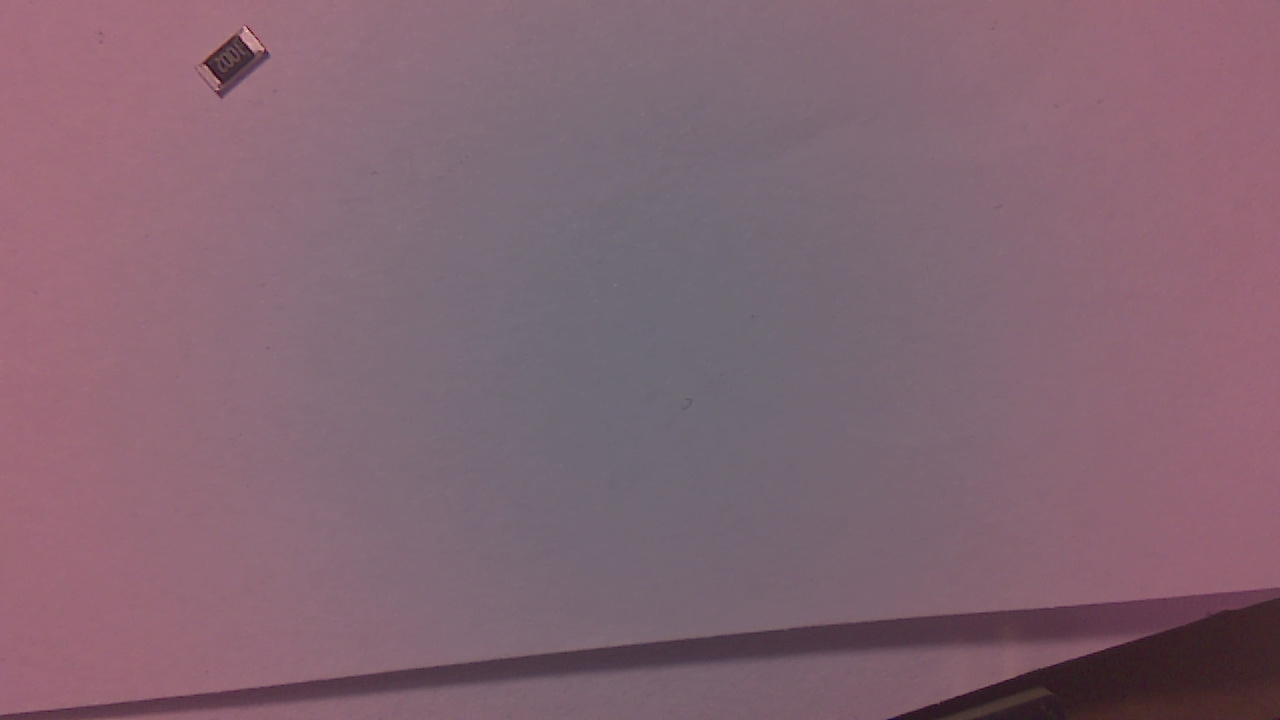Resistor: (202, 29, 277, 104)
